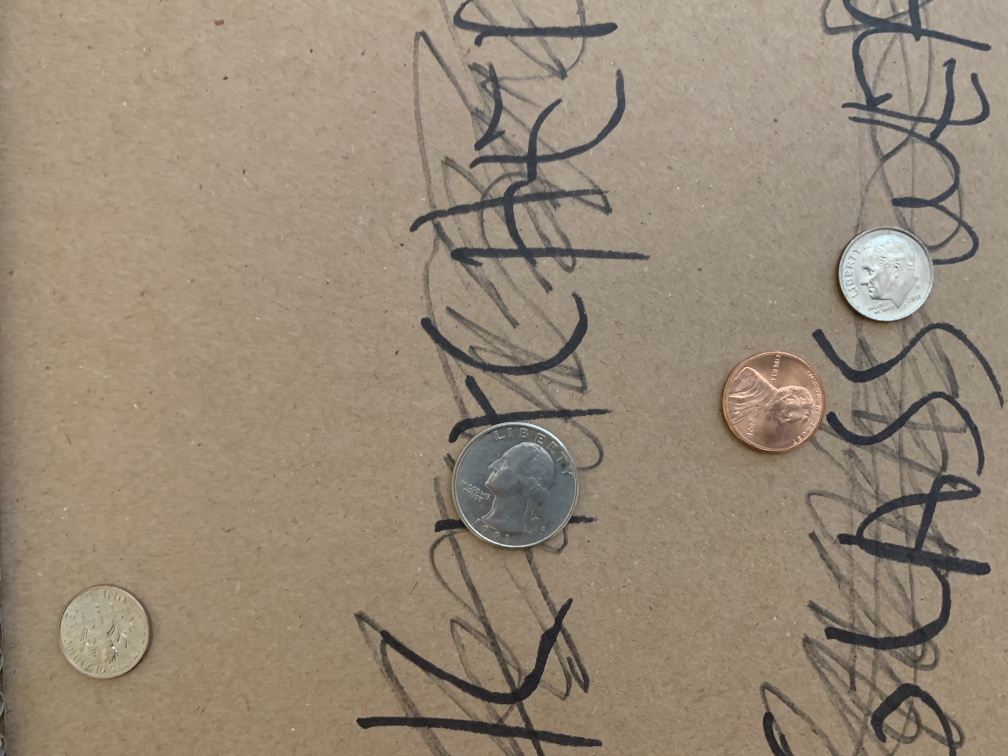dime: (832, 224, 939, 327), (55, 580, 154, 684)
penny: (714, 343, 826, 457)
quarter: (449, 417, 582, 558)
